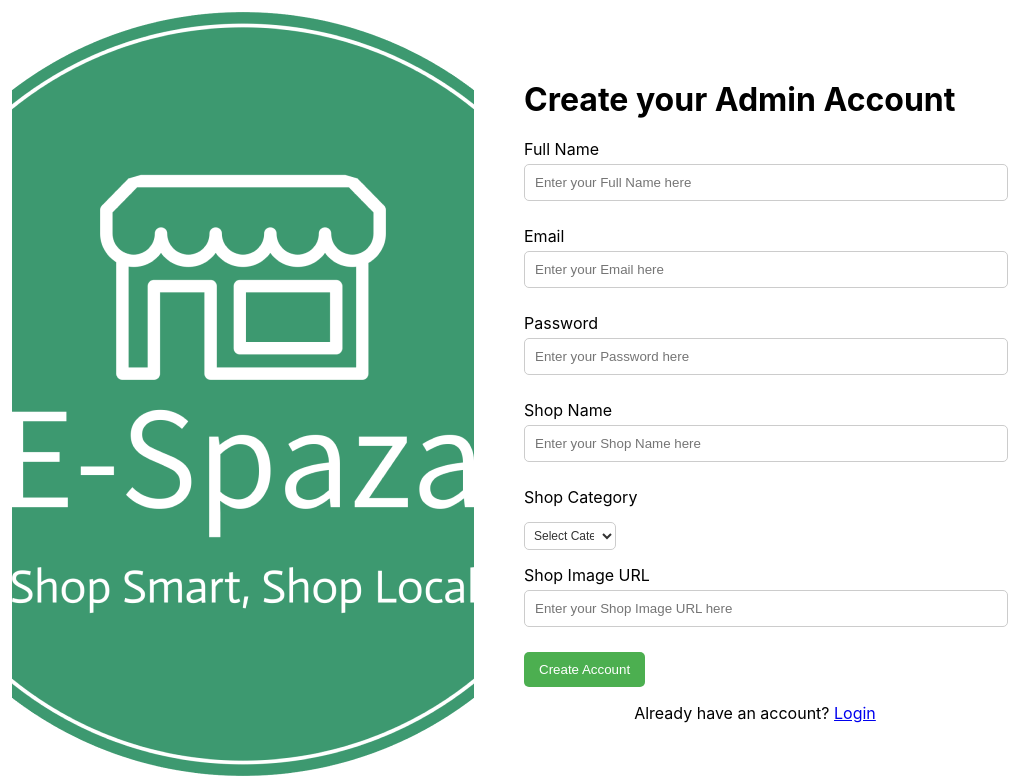
Test: SignupAdmin Component › should handle signup error
This screenshot has width=1036, height=780.
Type "Test Admin" into the field labelled "Full Name" at (766, 182), box [524,164,1008,201]
Type "admin@example.com" into the field labelled "Email" at (766, 269), box [524,251,1008,288]
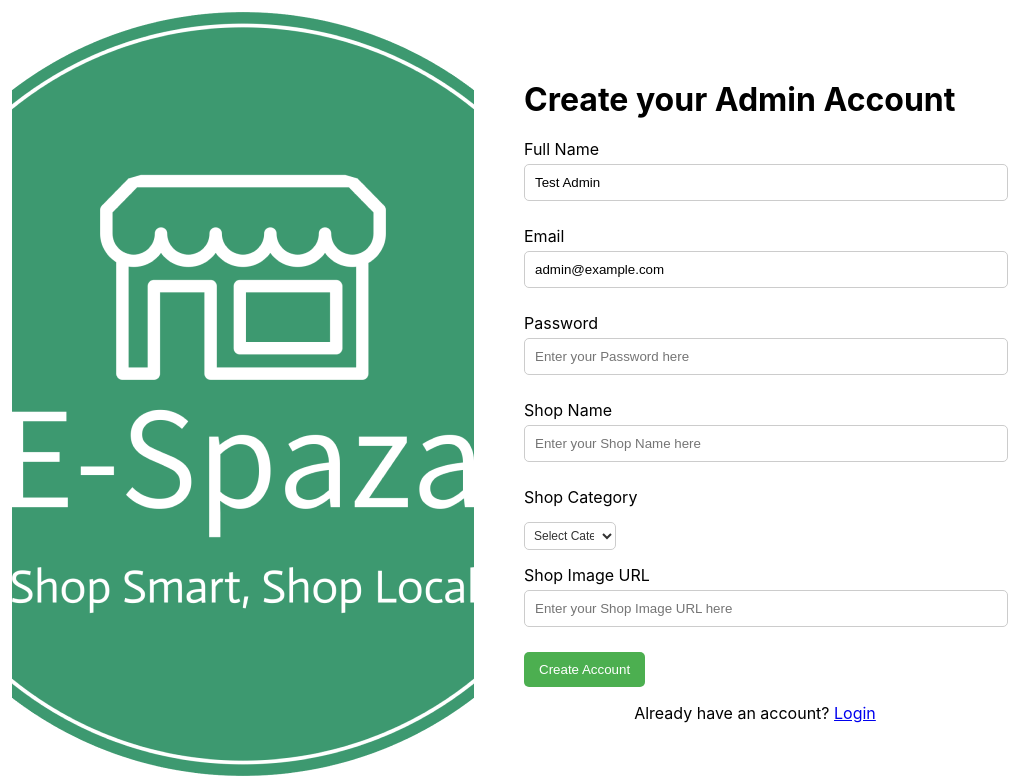
Type "Password123!" into the password field labelled "Password" at (766, 356), box [524,338,1008,375]
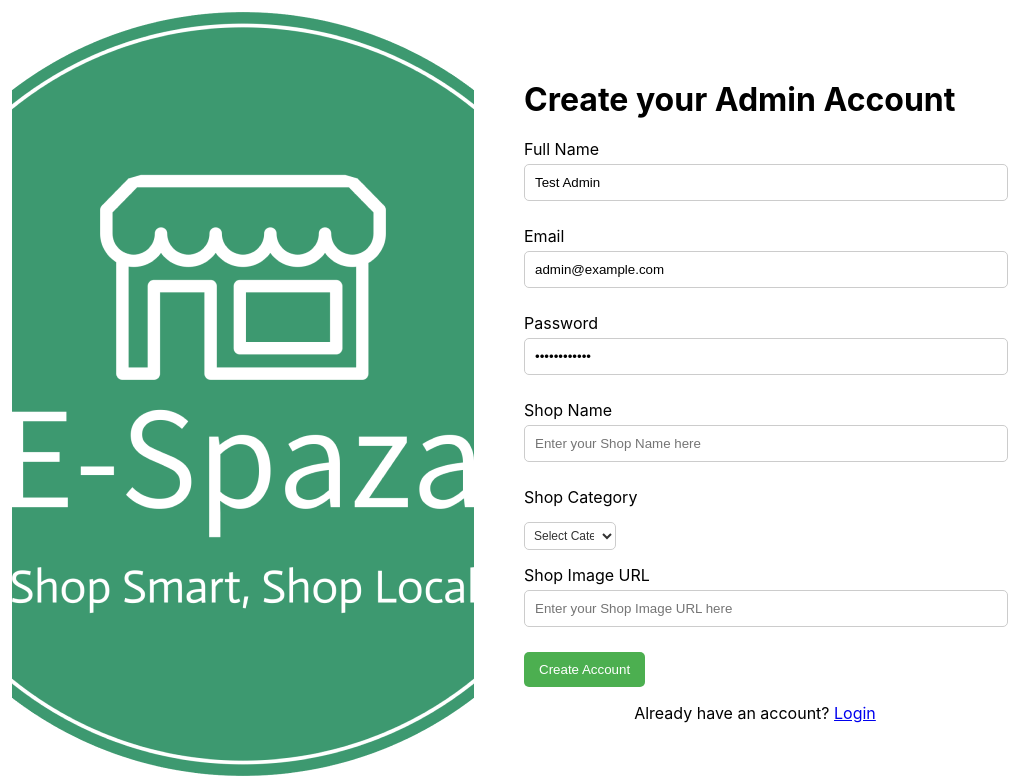
Type "Test Shop" into the field labelled "Shop Name" at (766, 443), box [524,425,1008,462]
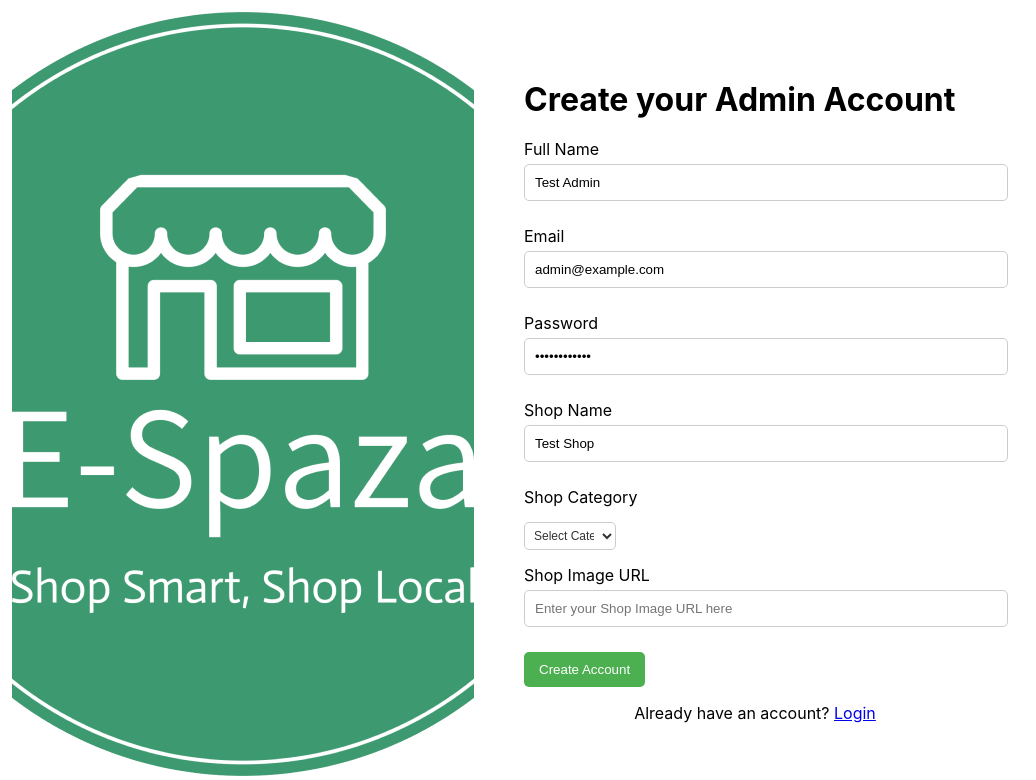
Select "mini-supermarket" in the dropdown labelled "Shop Category" at (570, 536), box [524,522,616,550]
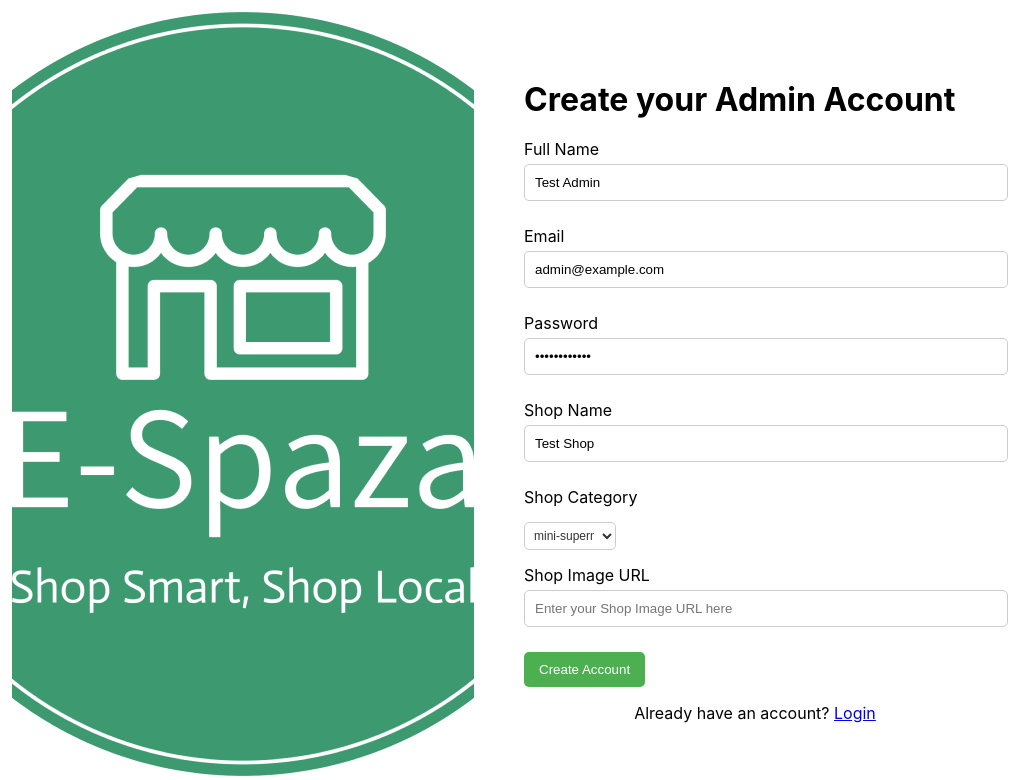
Type "http://example.com/shop.jpg" into the field labelled "Shop Image URL" at (766, 608), box [524,590,1008,627]
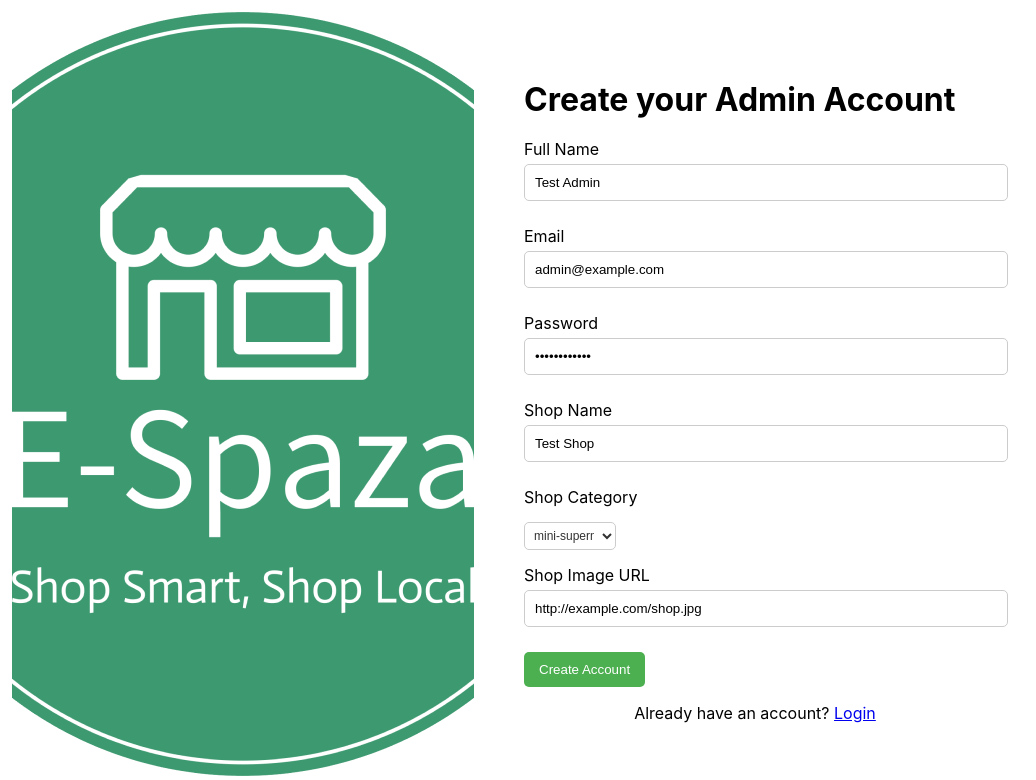
Click the button "Create Account" at (585, 669), box [524,652,645,687]
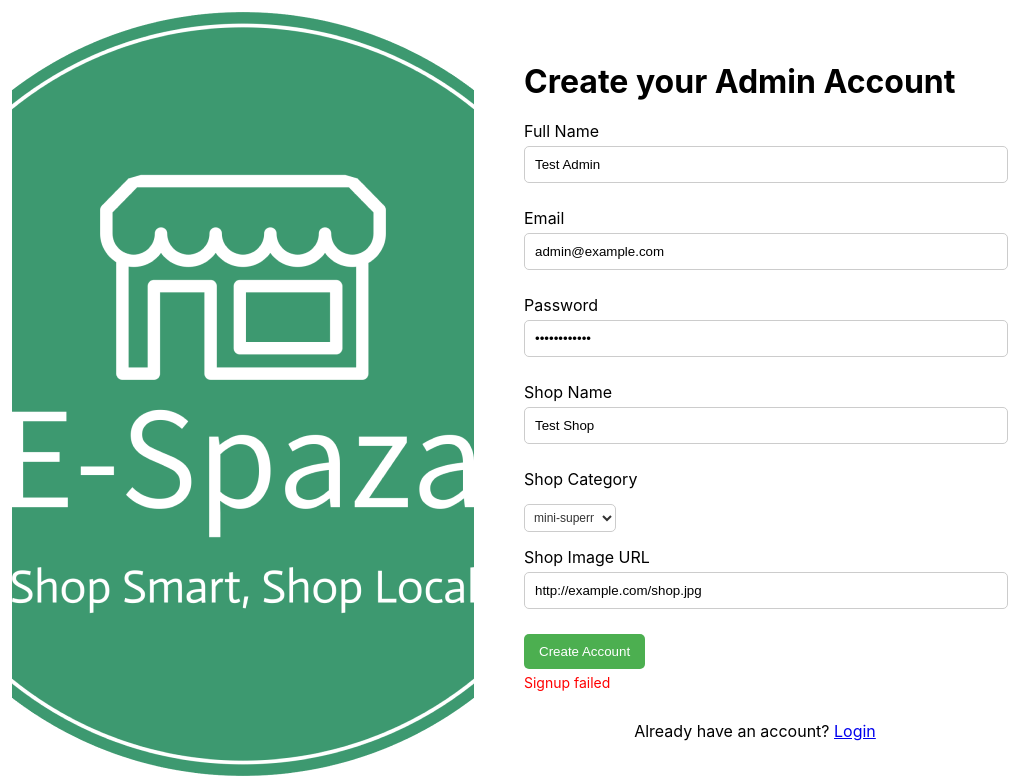
Check: the text "Signup failed" is shown, box [524,674,610,691]
